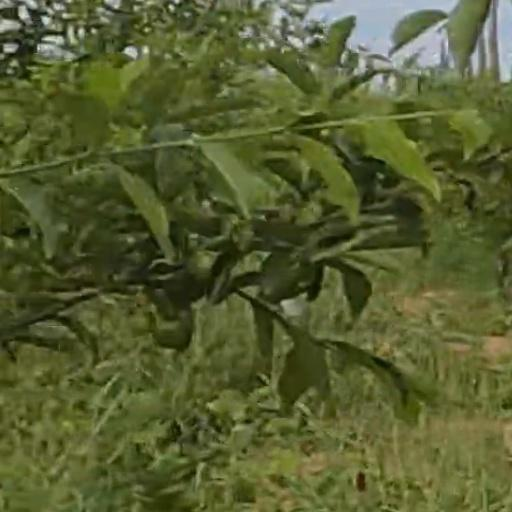acerola_verde: (153, 315, 193, 347)
